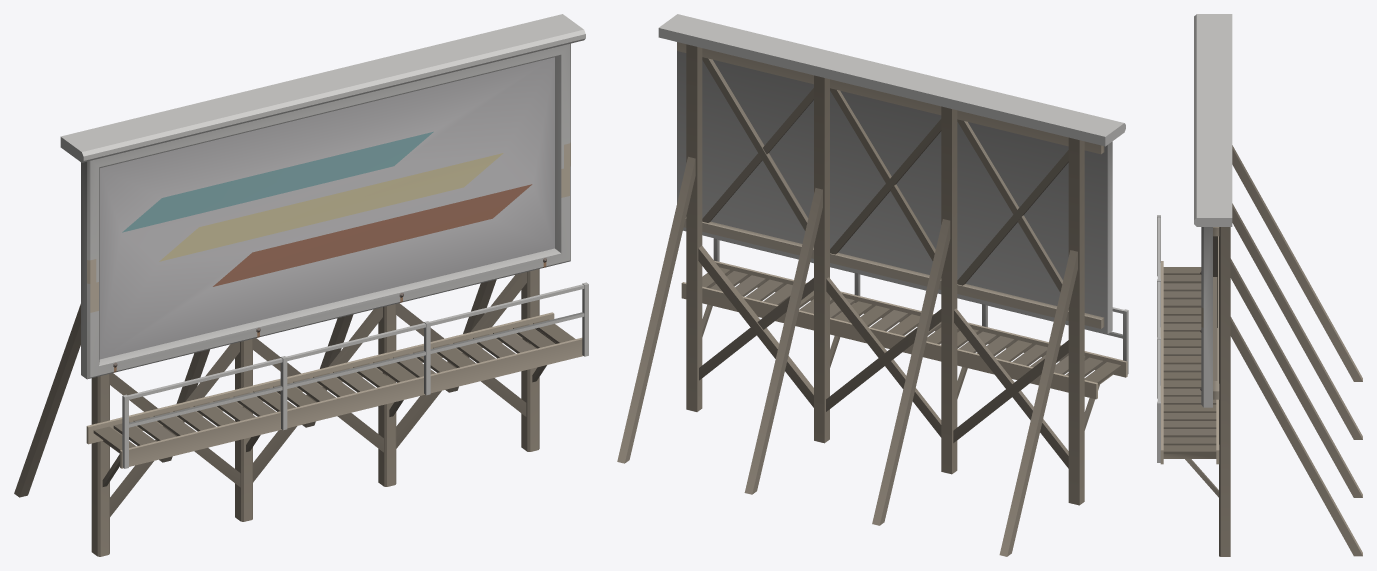
The model's file is billboard.glb.
3 renders of one model, left to right at view 1: azimuth 30°, elevation 25°; view 2: azimuth 150°, elevation 25°; view 3: azimuth 270°, elevation 25°, orthographic. The views are drawn at different scales.
Visible parts, largest first — view 1: billboard.001; view 2: billboard.001; view 3: billboard.001.
Boxes of the visible parts, bbox=[...] form: billboard.001: bbox=[14, 14, 588, 556]; billboard.001: bbox=[617, 14, 1128, 556]; billboard.001: bbox=[1157, 14, 1362, 556].
Bounding box in the file's own units: 8.3 × 6.67 × 3.54.
